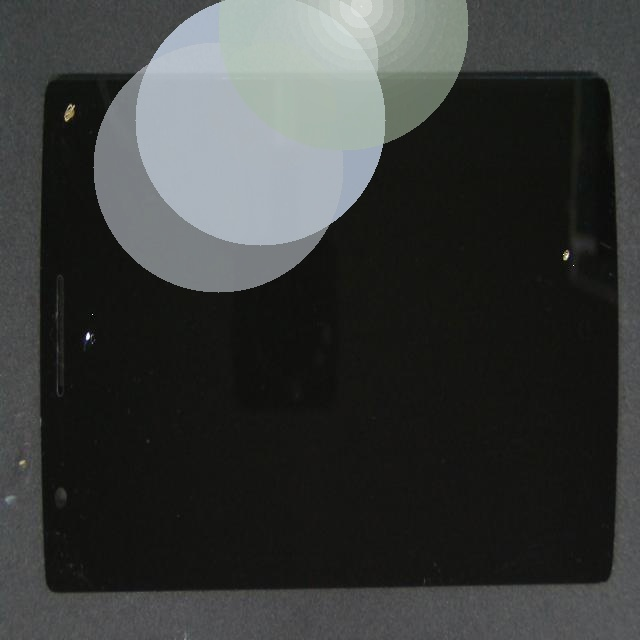stain: (270, 141, 640, 423), (35, 147, 114, 522)
